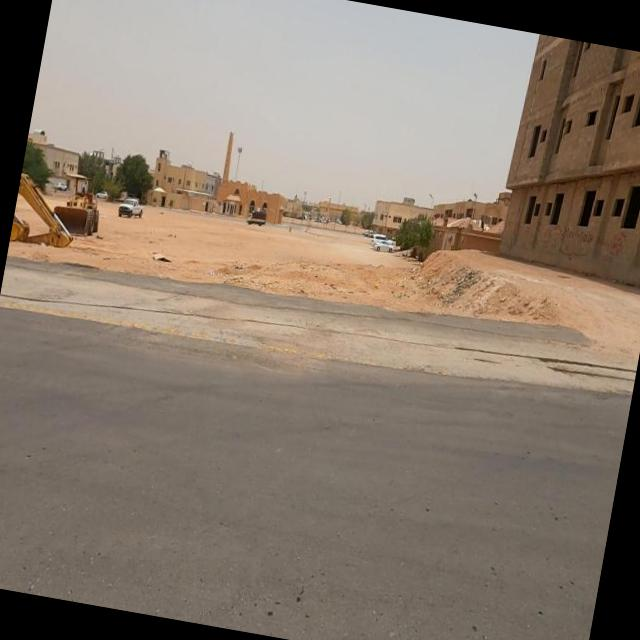debris: (132, 215, 196, 288)
